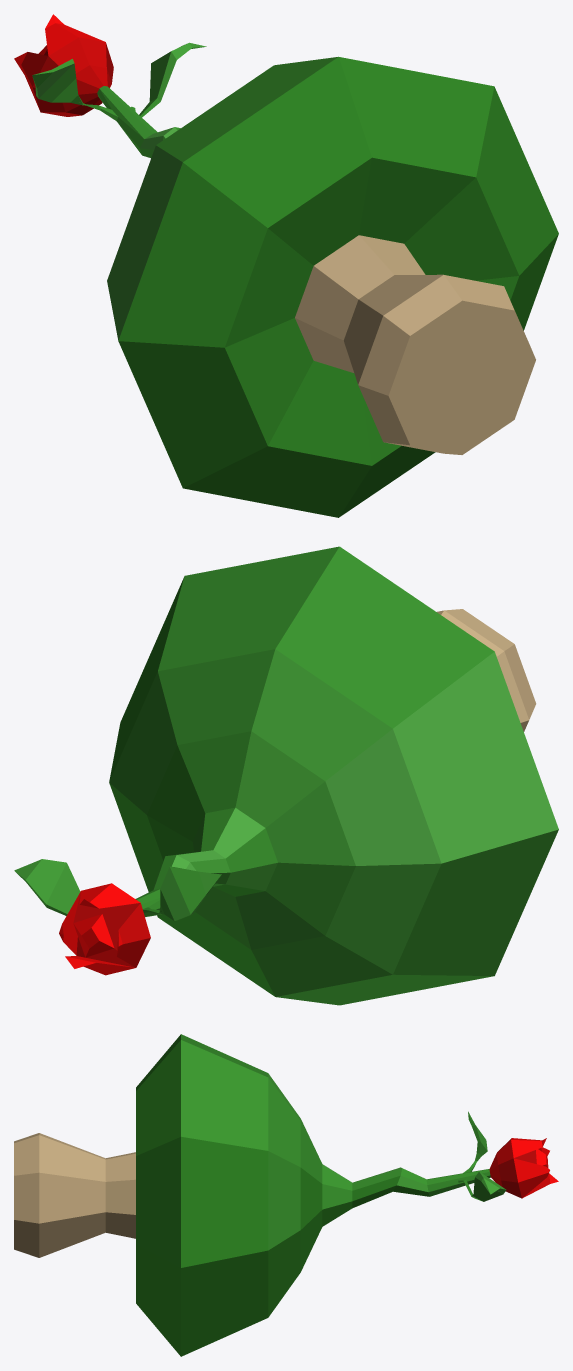
File: mushroom_3.fbx
The picture shows the model from 3 angles, top to bottom: view 1: azimuth 30°, elevation 25°; view 2: azimuth 150°, elevation 25°; view 3: azimuth 270°, elevation 25°; orthographic projection. The views are drawn at different scales.
Visible parts, largest first — view 1: mushroom_3; view 2: mushroom_3; view 3: mushroom_3.
Boxes of the visible parts, x1,y1,x2,y2 form: mushroom_3: (14, 14, 558, 517); mushroom_3: (14, 546, 558, 1005); mushroom_3: (14, 1034, 558, 1356).
Bounding box in the file's own units: 70.51 × 70.51 × 112.
